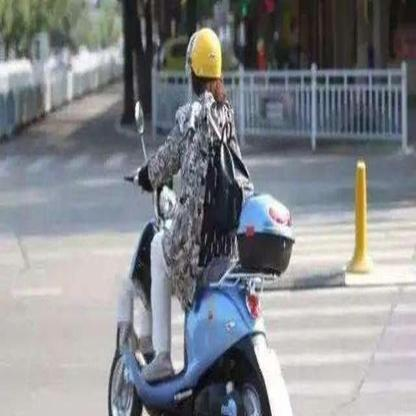target: (99, 23, 305, 410)
